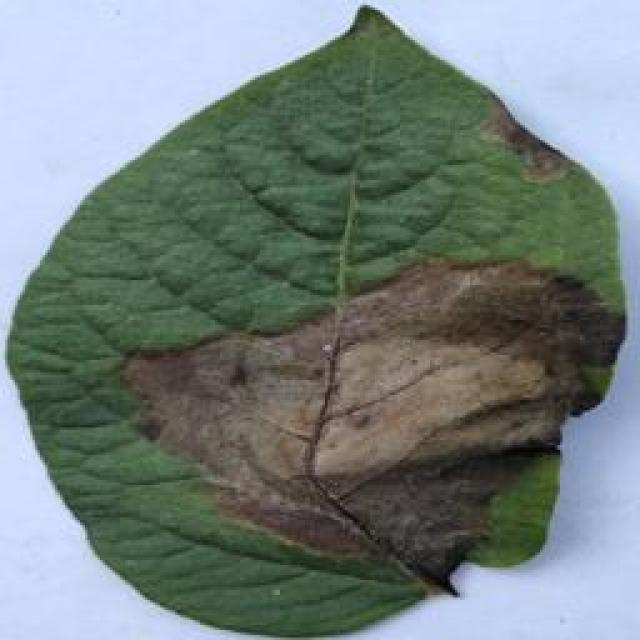Potato_Late_Blight: (3, 3, 636, 634)
